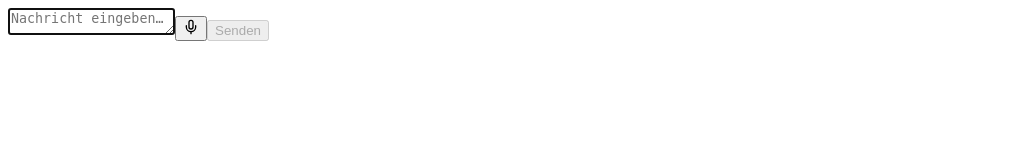
voice button states › gives them distinct German names with deChatLocale
The image size is (1024, 160).
What coordinates should you click on to do the following:
click the button named "Spracheingabe starten"
I would click on:
 (191, 28)
Its box is top-left (175, 16), bottom-right (207, 41).
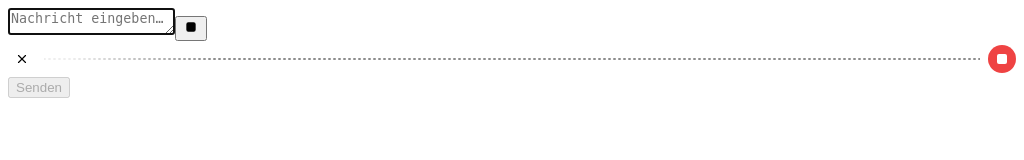
Result: the button named "Beenden und Text übernehmen" is shown at top-left (988, 45), bottom-right (1016, 73)
